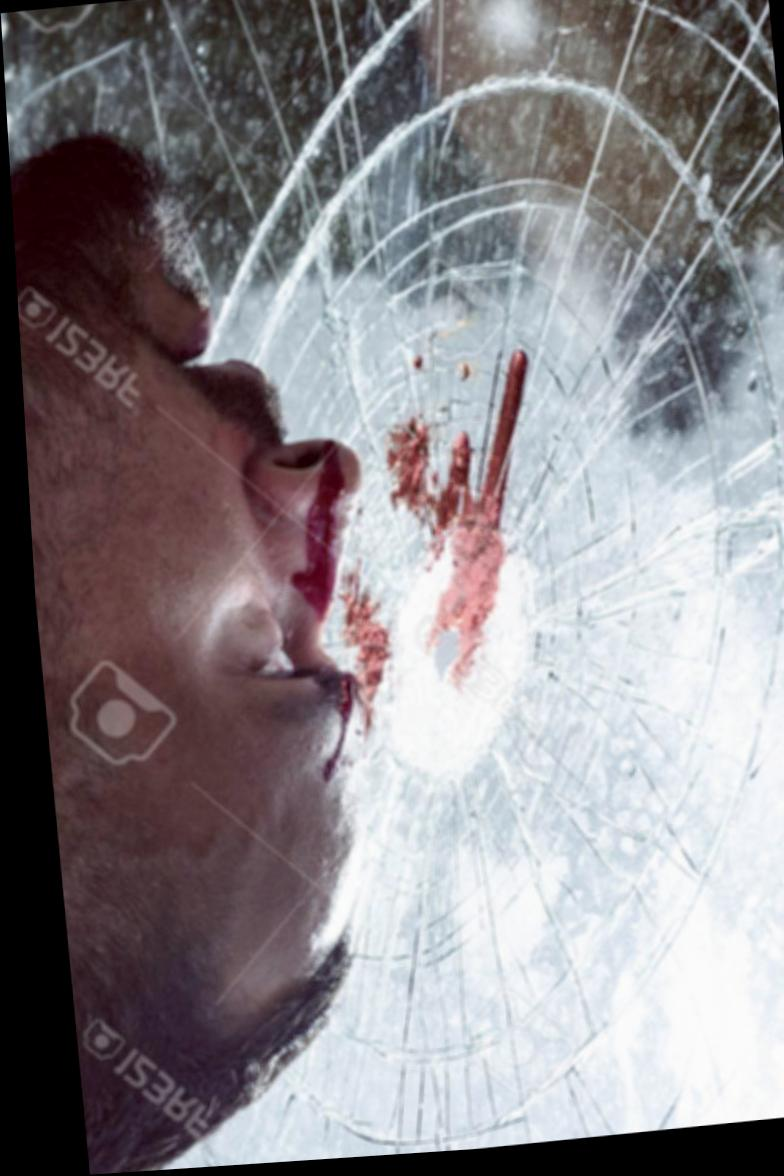Fire: (380, 358, 525, 695), (284, 446, 339, 626), (335, 600, 383, 747)
